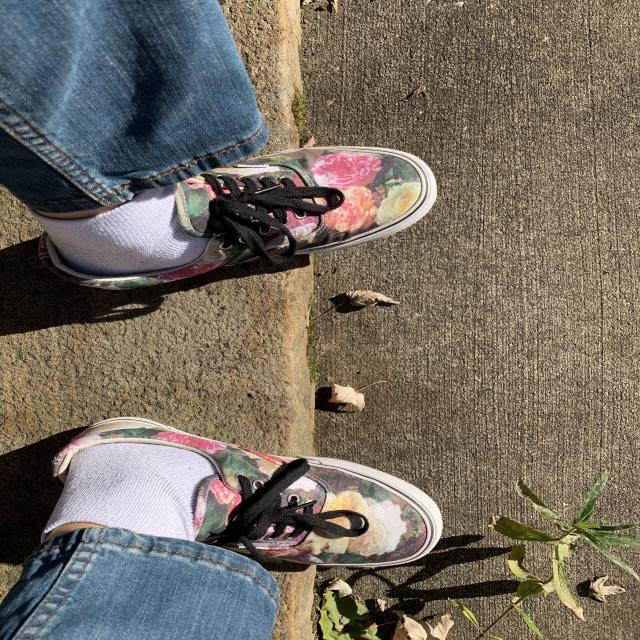shoe: (46, 414, 445, 572), (36, 140, 442, 292)
